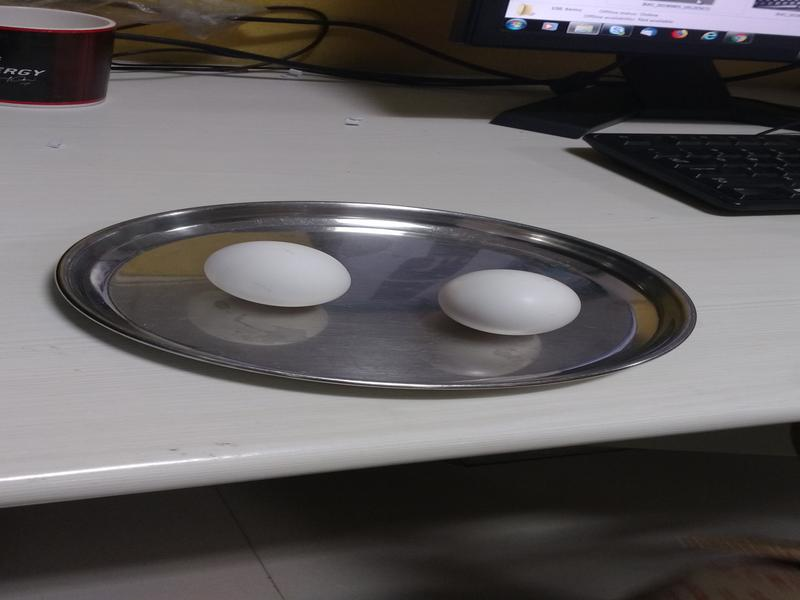egg: (434, 267, 581, 340)
